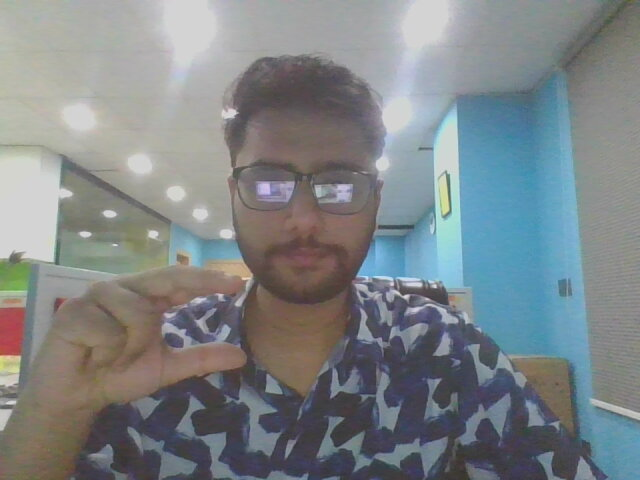no: (26, 254, 258, 436)
